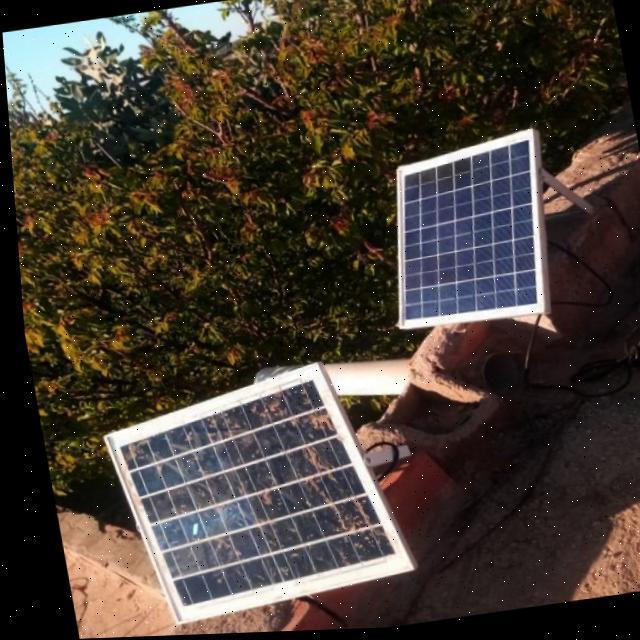Normal Solar Panel: (366, 132, 561, 333)
